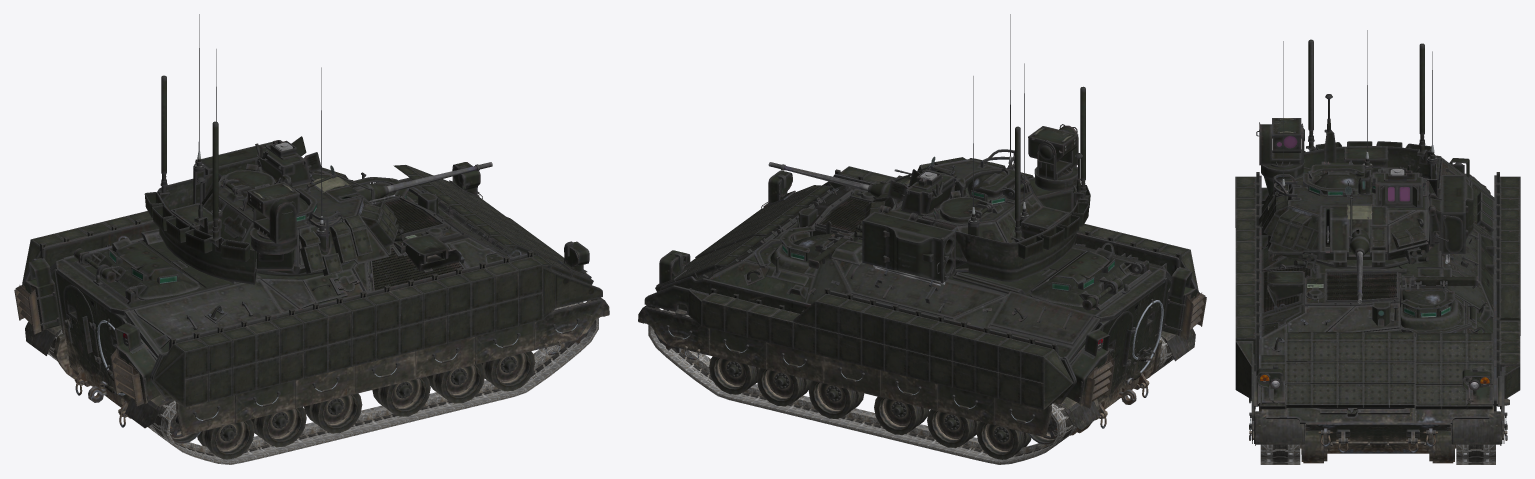
File: bradley.glb
3 renders of one model, left to right at view 1: azimuth 30°, elevation 25°; view 2: azimuth 150°, elevation 25°; view 3: azimuth 270°, elevation 25°, orthographic. The views are drawn at different scales.
Visible parts, largest first — view 1: hull_0, hull_2, turret_0, wheels_0, tracks_0, hull_1, turret_1, turret_2, gun_0; view 2: hull_0, hull_2, turret_0, wheels_0, hull_1, tracks_0, turret_1, gun_0, turret_2; view 3: hull_0, hull_2, turret_0, hull_1, turret_2, turret_1, tracks_0, gun_0.
Part boxes in pixels (<box>): hull_0: <box>14,172,609,435</box>; hull_2: <box>22,165,602,407</box>; turret_0: <box>195,67,404,276</box>; wheels_0: <box>169,303,592,459</box>; tracks_0: <box>48,302,598,464</box>; hull_1: <box>28,75,591,353</box>; turret_1: <box>157,14,257,284</box>; turret_2: <box>299,167,397,275</box>; gun_0: <box>351,162,492,202</box>; hull_0: <box>638,174,1206,437</box>; hull_2: <box>655,166,1198,409</box>; turret_0: <box>854,14,1078,283</box>; wheels_0: <box>654,310,1057,459</box>; hull_1: <box>644,86,1192,359</box>; tracks_0: <box>648,309,1173,464</box>; turret_1: <box>952,63,1077,281</box>; gun_0: <box>768,162,894,197</box>; turret_2: <box>864,157,1033,218</box>; hull_0: <box>1249,155,1507,463</box>; hull_2: <box>1235,172,1520,420</box>; turret_0: <box>1256,41,1473,269</box>; hull_1: <box>1257,39,1509,461</box>; turret_2: <box>1258,184,1427,251</box>; turret_1: <box>1303,30,1438,196</box>; tracks_0: <box>1260,444,1495,464</box>; gun_0: <box>1348,229,1369,303</box>.
Size of the model in its own units: 6.55 by 4.87 by 3.68.
4 materials, 3 textured.
